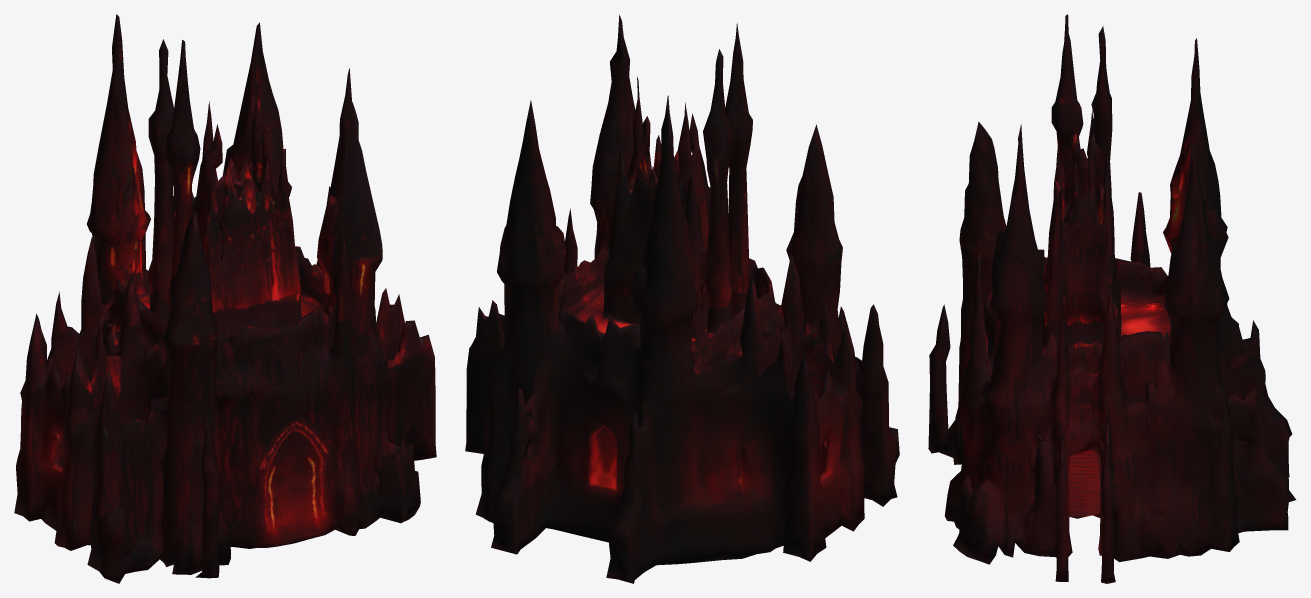
The model's file is Castle.fbx.
The picture shows the model from 3 angles, left to right: view 1: azimuth 30°, elevation 25°; view 2: azimuth 150°, elevation 25°; view 3: azimuth 270°, elevation 25°; orthographic projection. The views are drawn at different scales.
Visible parts, largest first — view 1: Mesh_0; view 2: Mesh_0; view 3: Mesh_0.
Part boxes in pixels (left/top/right/bottom): Mesh_0: left=14, top=14, right=436, bottom=583; Mesh_0: left=465, top=14, right=899, bottom=583; Mesh_0: left=928, top=14, right=1296, bottom=583.
Size of the model in its own units: 162 by 201 by 145.
1 material, 1 textured.
